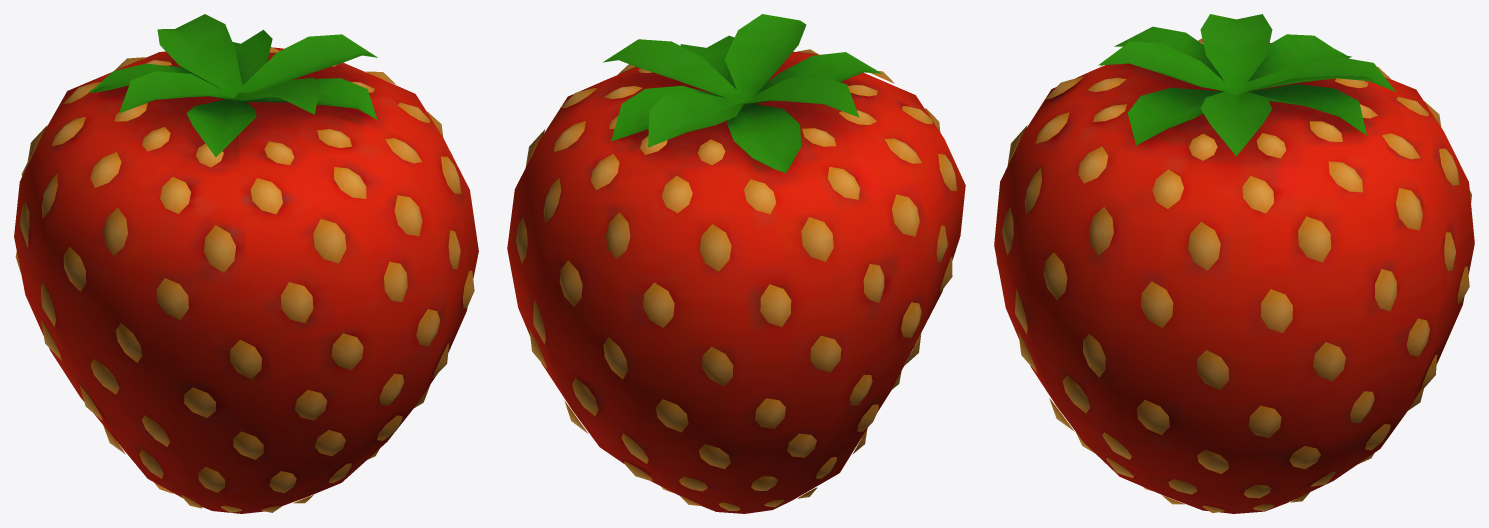
Rendered from strawberry.glb.
3 views of the same model, side by side, from view 1: azimuth 30°, elevation 25°; view 2: azimuth 150°, elevation 25°; view 3: azimuth 270°, elevation 25° (orthographic). The views are drawn at different scales.
Visible parts, largest first — view 1: Strawberry; view 2: Strawberry; view 3: Strawberry.
Boxes of the visible parts, x1=… form: Strawberry: x1=14, y1=14, x2=478, y2=513; Strawberry: x1=507, y1=14, x2=965, y2=513; Strawberry: x1=994, y1=14, x2=1474, y2=513.
Bounding box in the file's own units: 4.89 × 5.2 × 5.04.
1 material, 1 textured.
